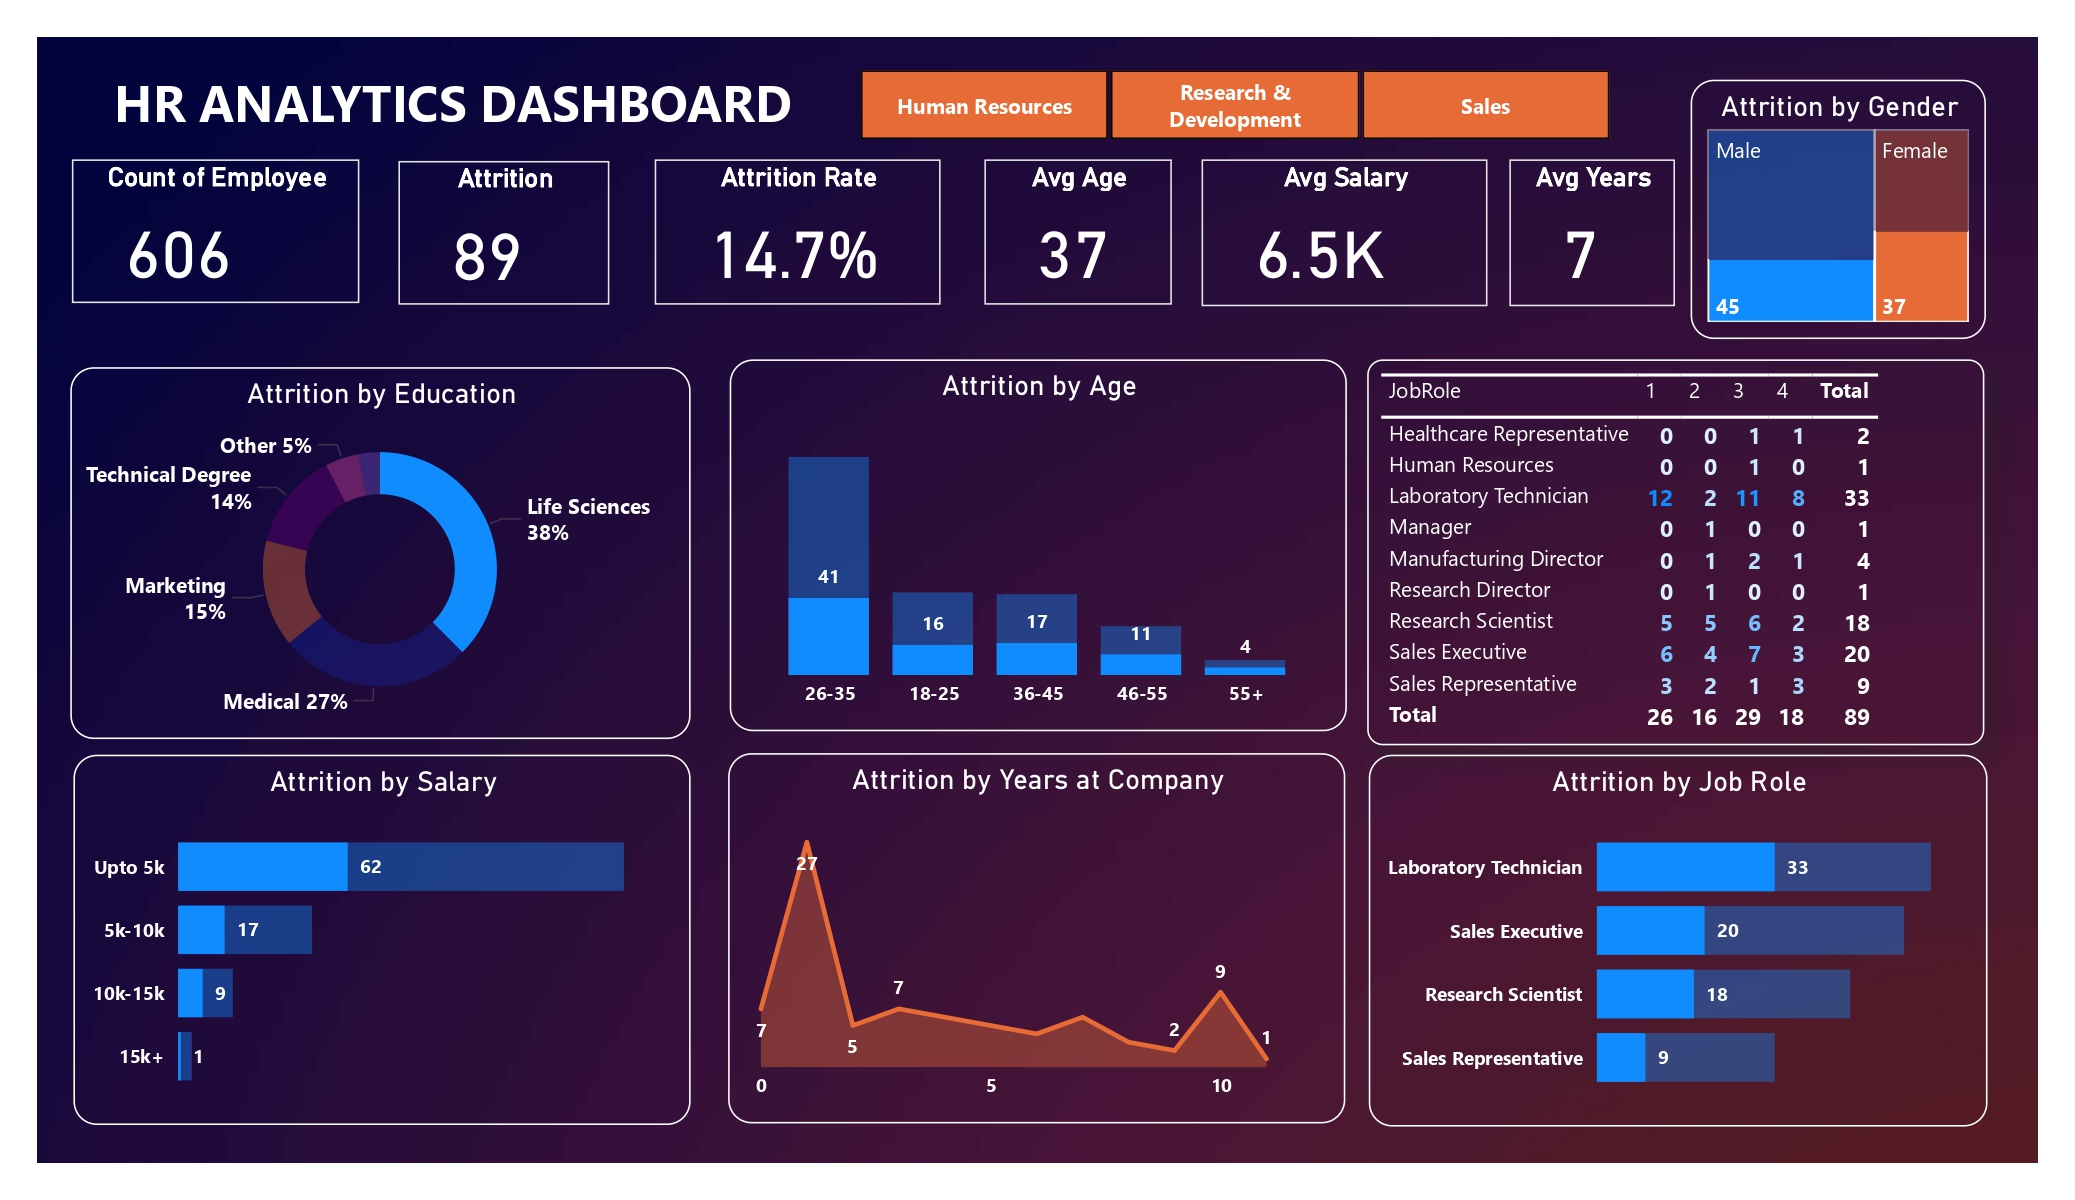

Layout of this report page (visuals, bound fields, positions):
{"tool":"powerbi","page":{"name":"Page 1","canvas":[1280,720],"ordinal":0},"visuals":[{"type":"cardVisual","title":"Count of Employee ","fields":{"Data":["CountNonNull(HR_Analytics.EmpID)"]},"box":[22.2,77.8,183.3,92.2],"z":0},{"type":"cardVisual","title":"Attrition ","fields":{"Data":["Sum(HR_Analytics.AttritionCount)"]},"box":[231.3,79,134.5,92.5],"z":1000},{"type":"cardVisual","title":"Attrition Rate","fields":{"Data":["HR_Analytics.AttrtionRate"]},"box":[394.7,77.5,183.6,94],"z":2000},{"type":"cardVisual","title":"Avg Age","fields":{"Data":["Avg(HR_Analytics.Age)"]},"box":[605.8,77.5,120,94],"z":3000},{"type":"cardVisual","title":"Avg Years","fields":{"Data":["Avg(HR_Analytics.YearsAtCompany)"]},"box":[941.7,78.3,106.7,93.3],"z":4000},{"type":"cardVisual","title":"Avg Salary","fields":{"Data":["Avg(HR_Analytics.MonthlyIncome)"]},"box":[745,78.3,183.3,93.3],"z":5000},{"type":"donutChart","title":"Attrition by Education","fields":{"Category":["HR_Analytics.EducationField"],"Y":["Sum(HR_Analytics.AttritionCount)"]},"box":[21.2,211.2,396.2,237.5],"z":6000},{"type":"clusteredBarChart","title":"Attrition by Salary","fields":{"Category":["HR_Analytics.SalarySlab"],"Y":["Sum(HR_Analytics.AttritionCount)"]},"box":[22.5,458.8,395,237.5],"z":7000},{"type":"pivotTable","fields":{"Rows":["HR_Analytics.JobRole"],"Columns":["HR_Analytics.JobSatisfaction"],"Values":["Sum(HR_Analytics.AttritionCount)"]},"box":[851.2,206.2,395,246.2],"z":8000},{"type":"columnChart","title":"Attrition by Age ","fields":{"Category":["HR_Analytics.AgeGroup"],"Y":["Sum(HR_Analytics.AttritionCount)"]},"box":[442.5,206.2,395,237.5],"z":9000},{"type":"clusteredBarChart","title":"Attrition by Job Role","fields":{"Y":["Sum(HR_Analytics.AttritionCount)"],"Category":["HR_Analytics.JobRole"]},"box":[852.2,458.9,395.6,237.8],"z":10000},{"type":"areaChart","title":"Attrition by Years at Company","fields":{"Category":["HR_Analytics.YearsAtCompany"],"Y":["Sum(HR_Analytics.AttritionCount)"]},"box":[441.7,458.3,395,236.7],"z":11000},{"type":"treemap","title":"Attrition by Gender","fields":{"Group":["HR_Analytics.Gender"],"Values":["Sum(HR_Analytics.AttritionCount)"]},"box":[1058.3,26.7,188.3,166.7],"z":12000},{"type":"slicer","fields":{"Values":["HR_Analytics.Department"]},"box":[501.1,14.4,528.9,55.6],"z":12001},{"type":"textbox","box":[10,14.4,512.2,53.3],"z":12002}]}

Visuals, with their boxes in screenshot pixels (x1, y1, x2, y2):
"Count of Employee " cardVisual: {"left": 72, "top": 159, "right": 359, "bottom": 303}
"Attrition " cardVisual: {"left": 399, "top": 161, "right": 609, "bottom": 305}
"Attrition Rate" cardVisual: {"left": 654, "top": 159, "right": 941, "bottom": 305}
"Avg Age" cardVisual: {"left": 984, "top": 159, "right": 1172, "bottom": 305}
"Avg Years" cardVisual: {"left": 1509, "top": 160, "right": 1676, "bottom": 306}
"Avg Salary" cardVisual: {"left": 1202, "top": 160, "right": 1488, "bottom": 306}
"Attrition by Education" donutChart: {"left": 71, "top": 368, "right": 690, "bottom": 739}
"Attrition by Salary" clusteredBarChart: {"left": 73, "top": 754, "right": 690, "bottom": 1125}
pivotTable - HR_Analytics.JobRole x HR_Analytics.JobSatisfaction: {"left": 1368, "top": 360, "right": 1985, "bottom": 744}
"Attrition by Age " columnChart: {"left": 729, "top": 360, "right": 1346, "bottom": 731}
"Attrition by Job Role" clusteredBarChart: {"left": 1369, "top": 755, "right": 1987, "bottom": 1126}
"Attrition by Years at Company" areaChart: {"left": 728, "top": 754, "right": 1345, "bottom": 1123}
"Attrition by Gender" treemap: {"left": 1691, "top": 79, "right": 1985, "bottom": 340}
slicer - HR_Analytics.Department: {"left": 820, "top": 60, "right": 1647, "bottom": 147}
textbox: {"left": 53, "top": 60, "right": 853, "bottom": 143}
